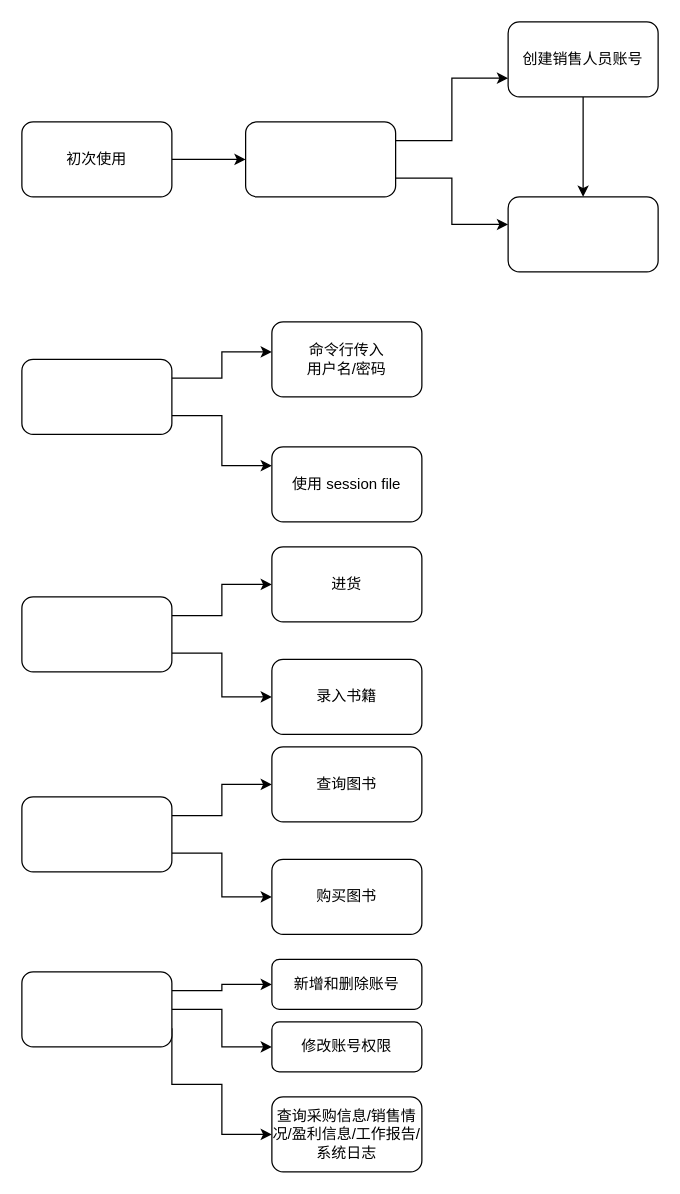
The diagram is 680 pixels wide and 1194 high, and some of its shapes have lost their labels. The centre of each missing label's shape, as x and y in pixels:
"创建店长账号" goes at pixel 320 159.
"创建顾客账号" goes at pixel 582 234.
"店长" goes at pixel 96 1009.
"登陆账号" goes at pixel 96 396.
"销售人员" goes at pixel 96 634.
"顾客" goes at pixel 96 834.
